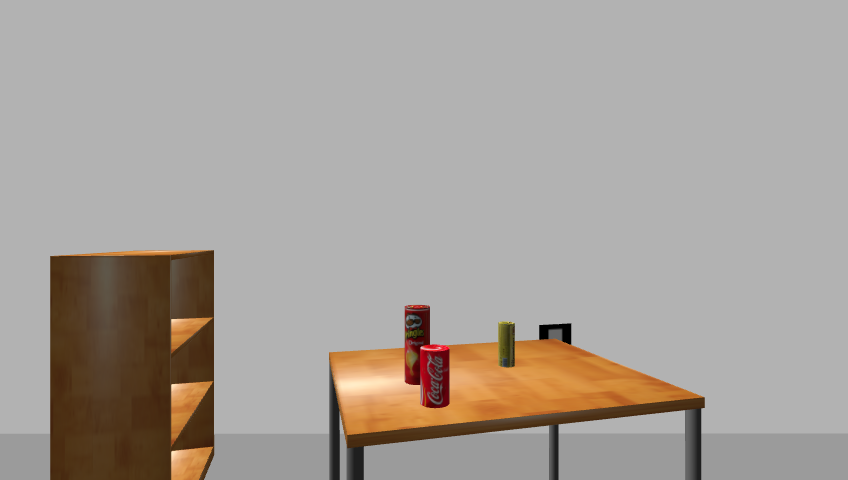aruco marker: (535, 322, 575, 349)
biscuits pack: (497, 321, 517, 369)
bookshelf: (44, 248, 221, 479)
coke can: (420, 344, 450, 408)
dinner table: (321, 338, 713, 480)
pringles can: (402, 303, 432, 387)
